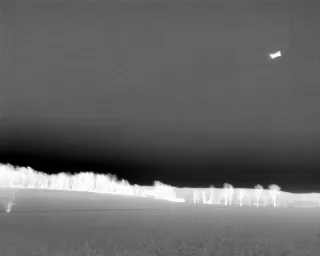DRONE: (266, 46, 286, 64)
